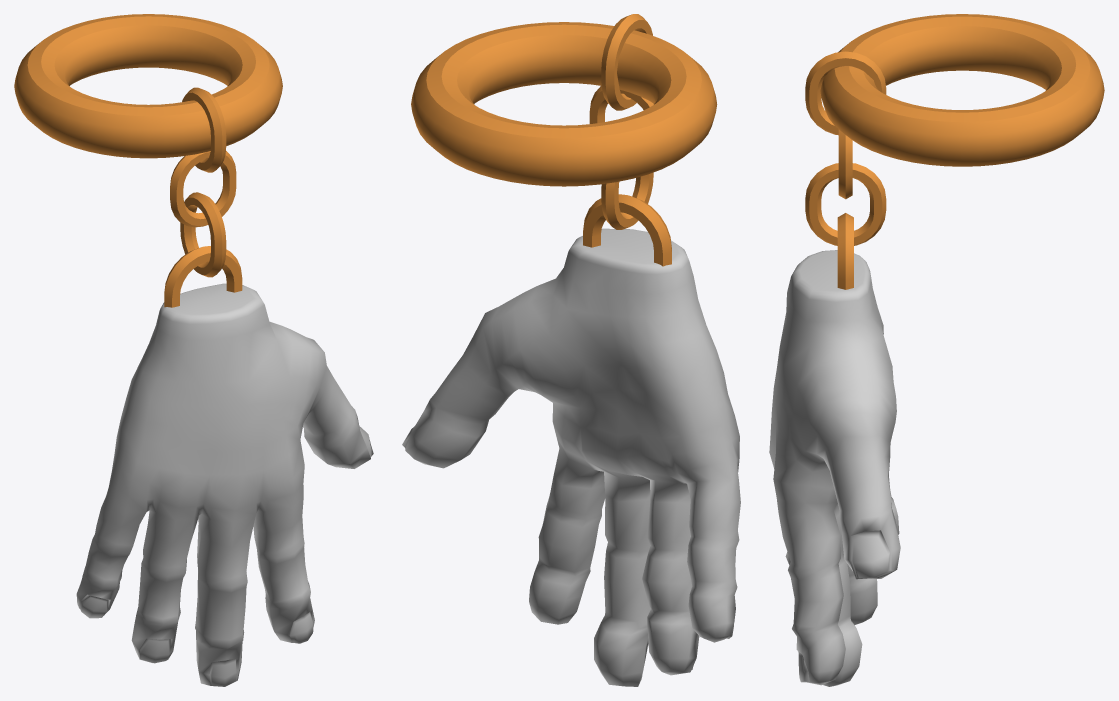
Rendered from Charm-Hand.fbx.
3 renders of one model, left to right at view 1: azimuth 30°, elevation 25°; view 2: azimuth 150°, elevation 25°; view 3: azimuth 270°, elevation 25°, orthographic. The views are drawn at different scales.
Parts seen in each view (by area): view 1: Hand, CharmHand, Hand.001; view 2: Hand, CharmHand, Hand.001; view 3: Hand, CharmHand, Hand.001.
Boxes of the visible parts, x1,y1,x2,y2 form: Hand: (76, 283, 373, 686); CharmHand: (14, 14, 282, 158); Hand.001: (164, 87, 242, 307); Hand: (402, 228, 740, 686); CharmHand: (411, 22, 717, 186); Hand.001: (583, 14, 671, 266); Hand: (769, 250, 900, 686); CharmHand: (820, 14, 1104, 166); Hand.001: (805, 51, 886, 289).
Size of the model in its own units: 18.77 by 35.81 by 17.34.
